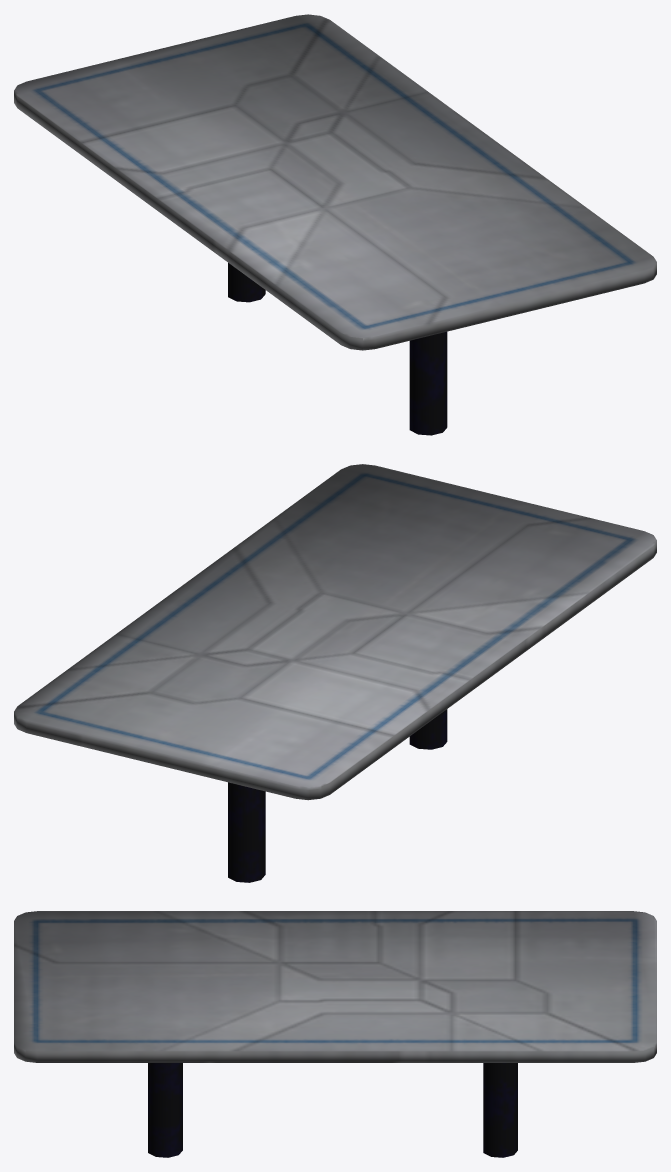
The model's file is table_2.glb.
The picture shows the model from 3 angles, top to bottom: view 1: azimuth 30°, elevation 25°; view 2: azimuth 150°, elevation 25°; view 3: azimuth 270°, elevation 25°; orthographic projection. The views are drawn at different scales.
Visible parts, largest first — view 1: table; view 2: table; view 3: table.
Boxes of the visible parts, x1,y1,x2,y2 form: table: (14, 14, 656, 435); table: (14, 464, 656, 882); table: (14, 911, 656, 1157).
Bounding box in the file's own units: 1.3 × 0.7287 × 2.51.
1 material, 1 textured.
